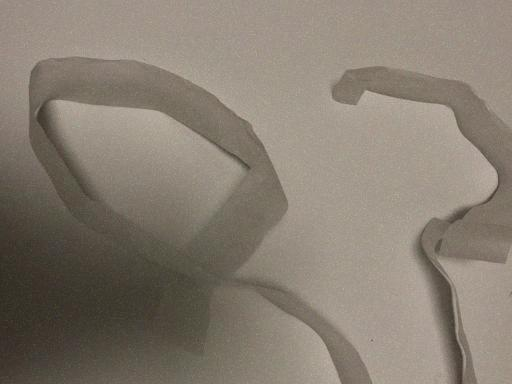trash: (28, 56, 510, 383)
